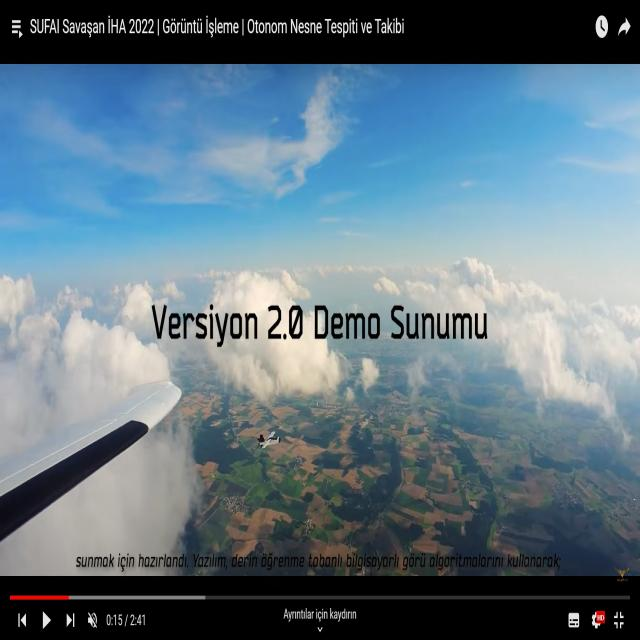iha: (257, 430, 280, 451)
